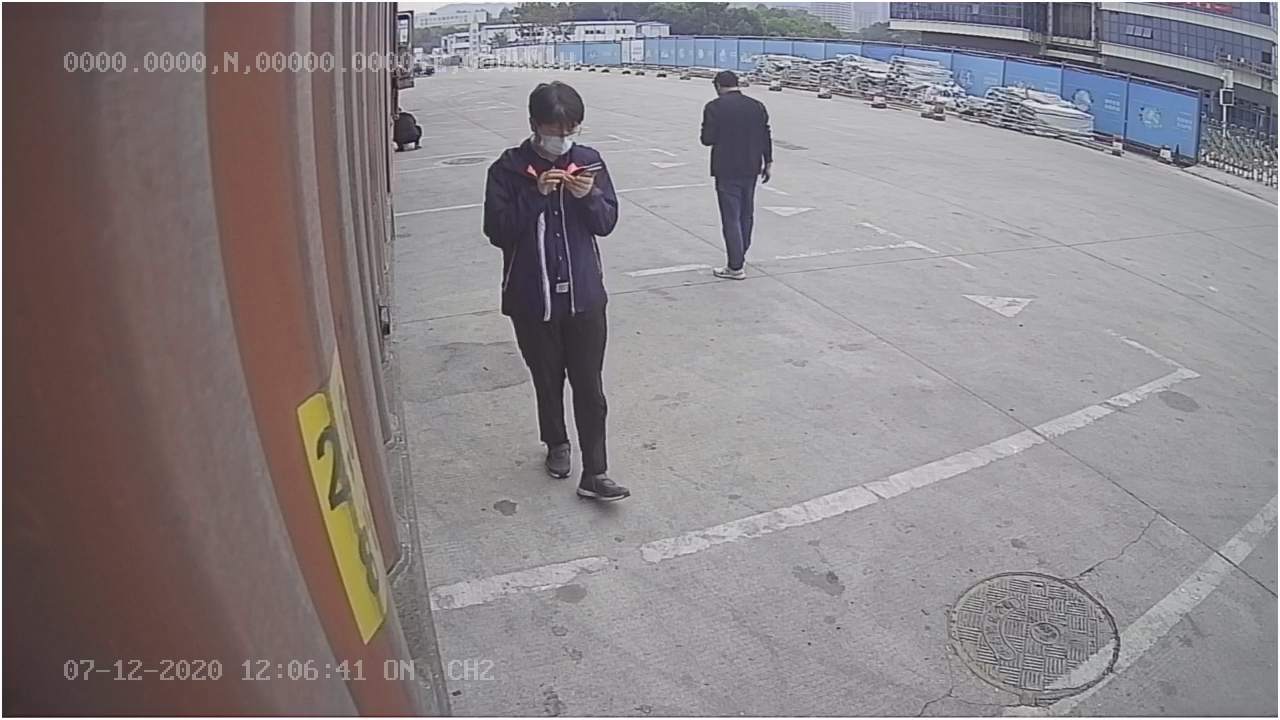person: (484, 77, 636, 504), (698, 64, 773, 282)
